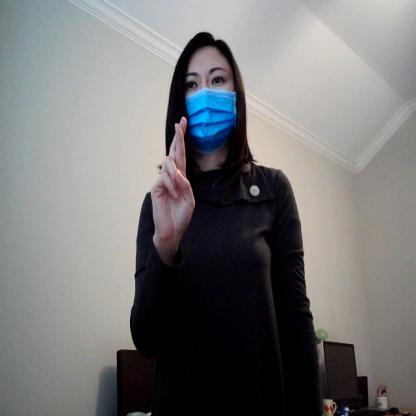right: (150, 116, 199, 244)
